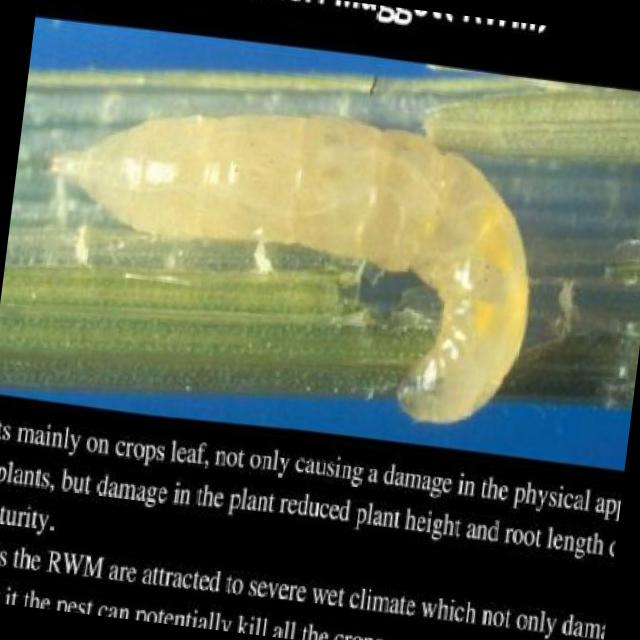whorl-maggot: (10, 76, 559, 442)
